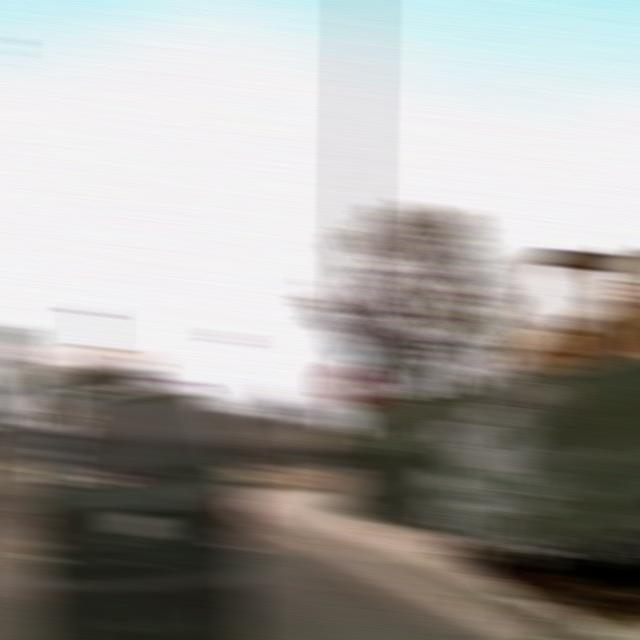stop_sign: (325, 363, 379, 412)
